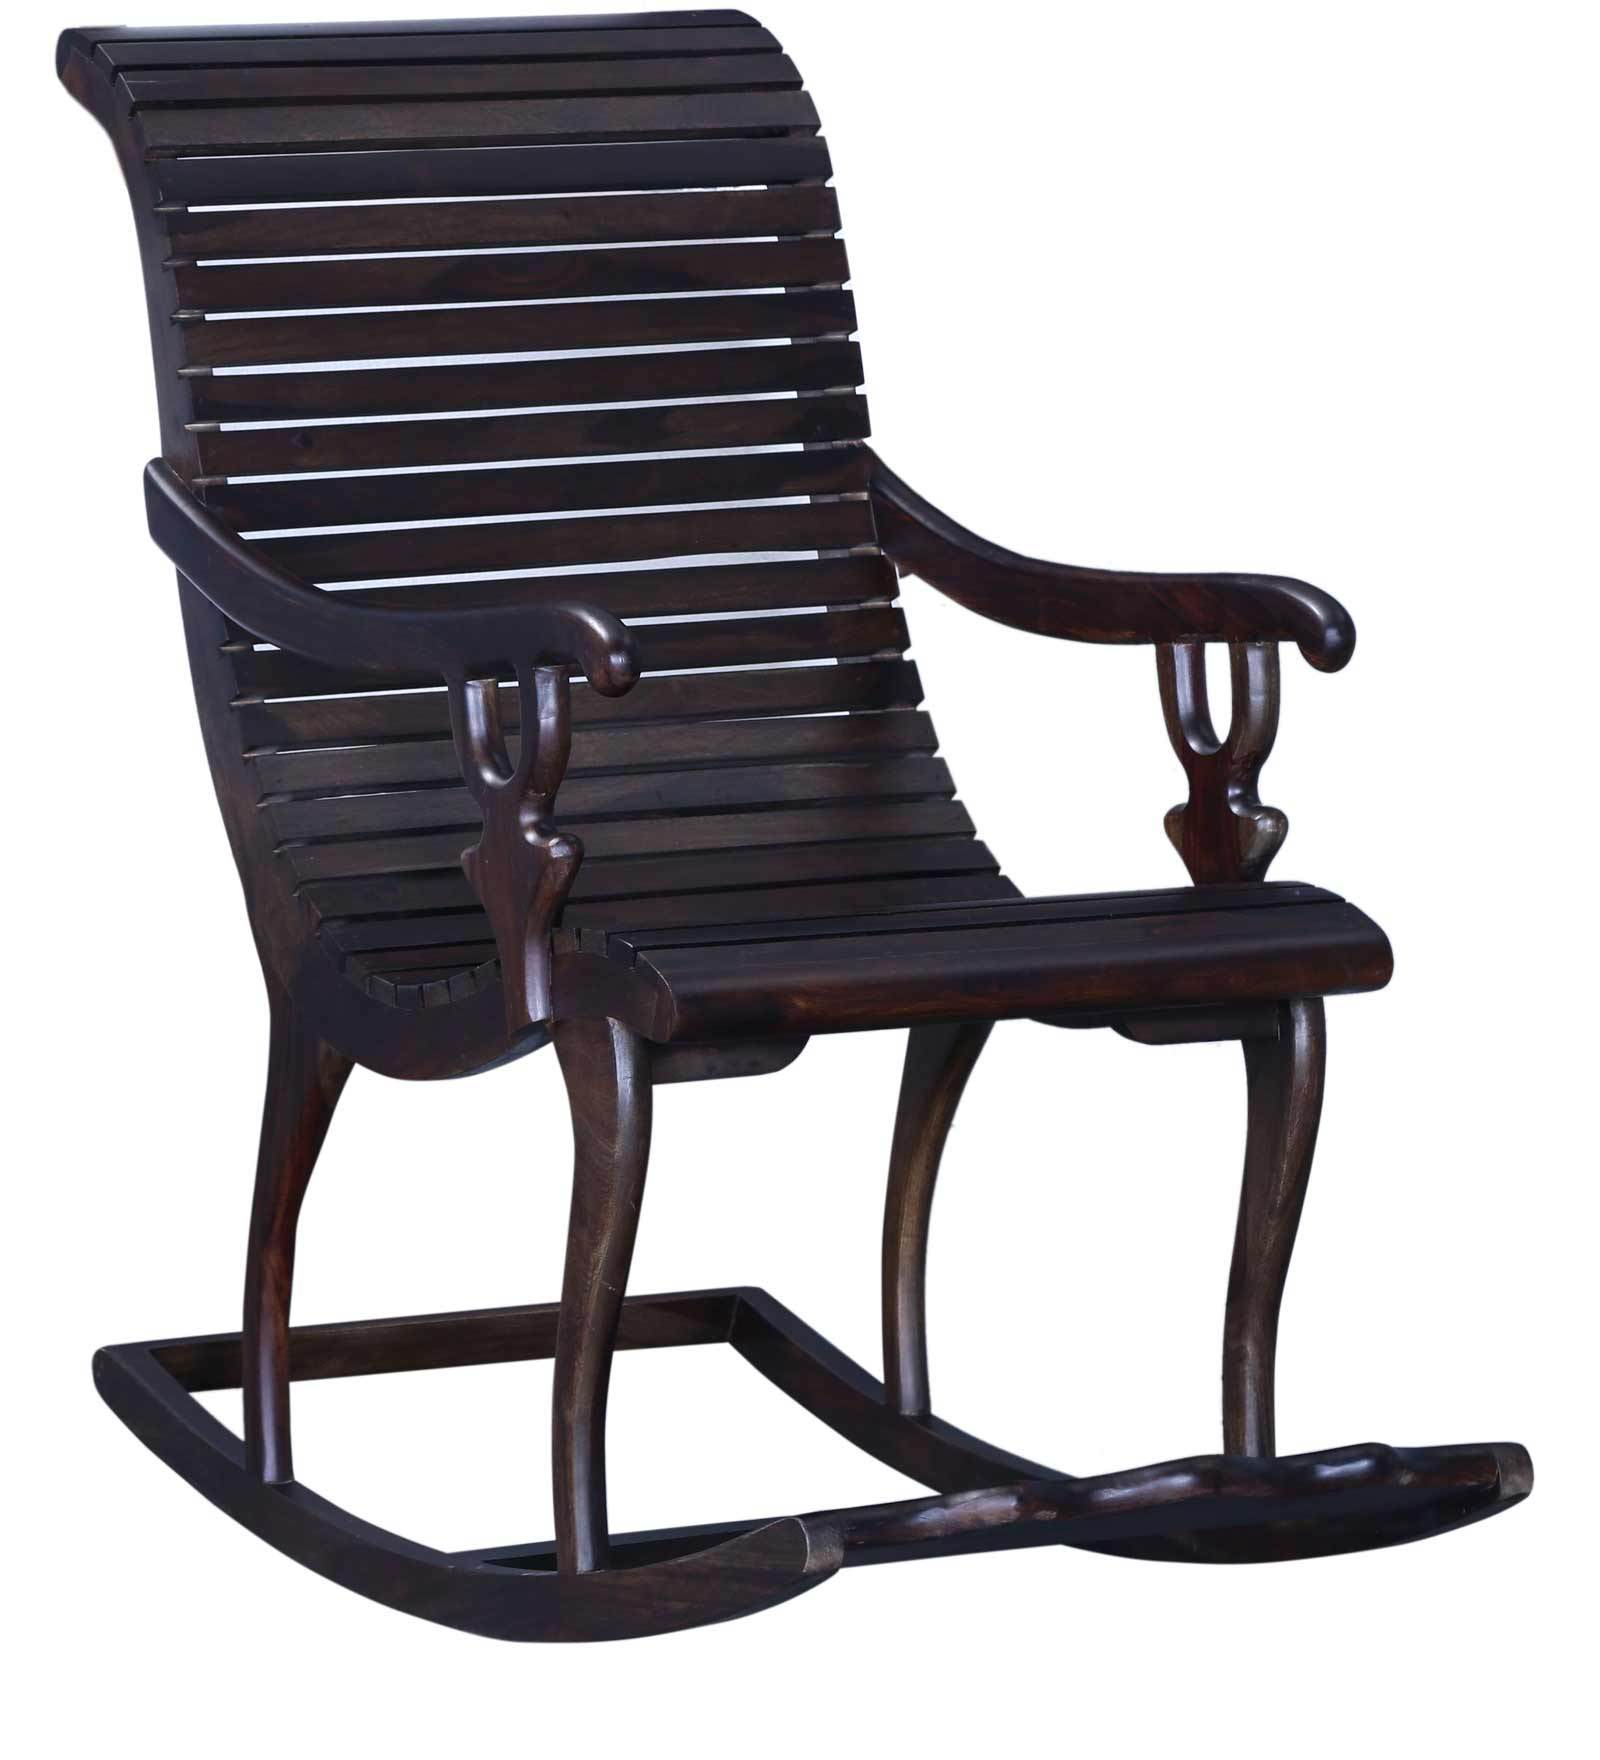Acklom Rocking Chair in Warm Chestnut Finish by Amberville: (35, 8, 1557, 1650)
